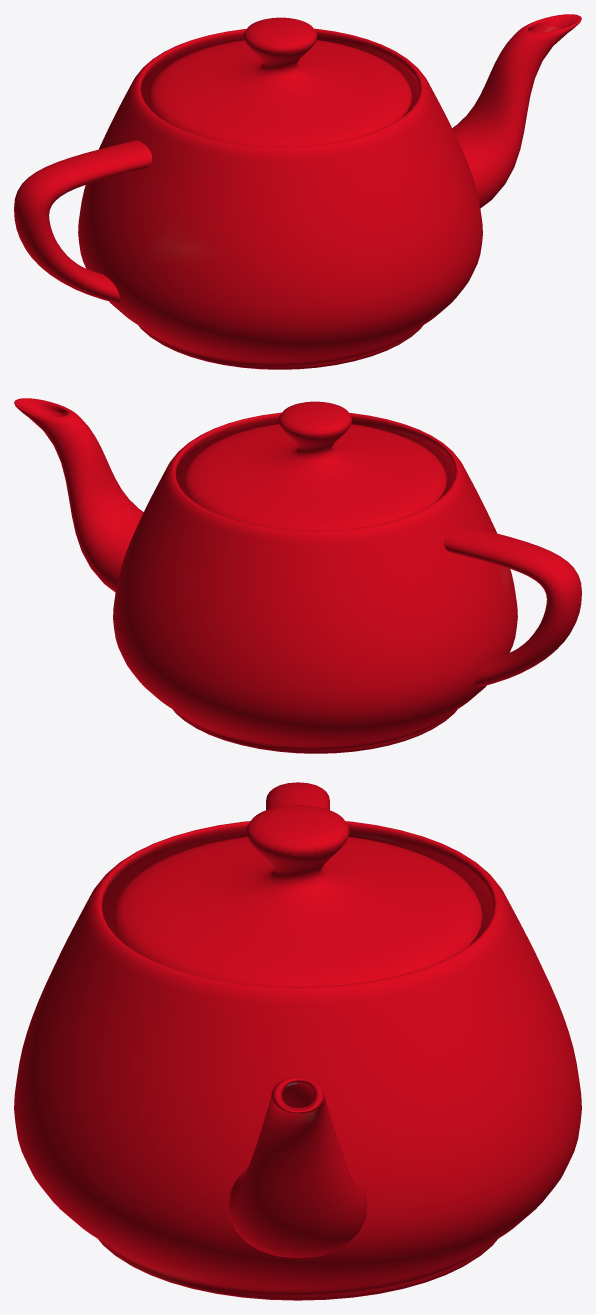
File: teapot.glb
The picture shows the model from 3 angles, top to bottom: view 1: azimuth 30°, elevation 25°; view 2: azimuth 150°, elevation 25°; view 3: azimuth 270°, elevation 25°; orthographic projection. The views are drawn at different scales.
Parts seen in each view (by area): view 1: Teapot_Node; view 2: Teapot_Node; view 3: Teapot_Node.
Part boxes in pixels (x1,y1,x2,y2): Teapot_Node: [14, 14, 581, 369]; Teapot_Node: [14, 398, 581, 753]; Teapot_Node: [14, 782, 581, 1300].
Size of the model in its own units: 3.17 by 1.55 by 1.97.
